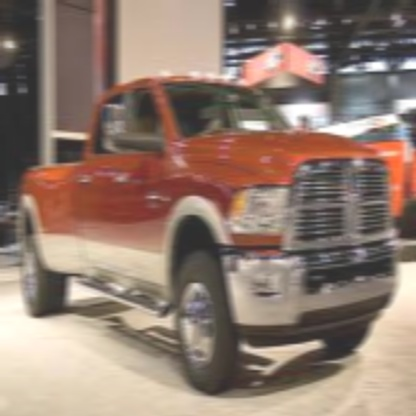Vehicle: (16, 73, 403, 402)
